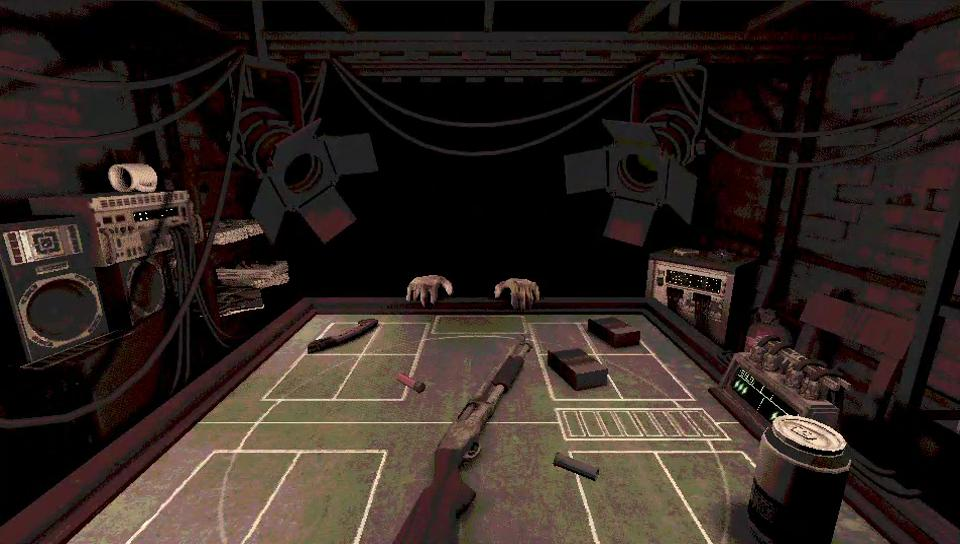ally: (62, 415, 898, 543)
can: (745, 410, 847, 543)
cigar: (545, 346, 609, 387), (588, 313, 642, 344)
doubledamage: (311, 315, 381, 351)
emptyspace: (124, 444, 300, 543), (236, 448, 388, 543), (575, 447, 715, 543)
enemyspace: (195, 307, 760, 419)
gun: (385, 332, 529, 543)
